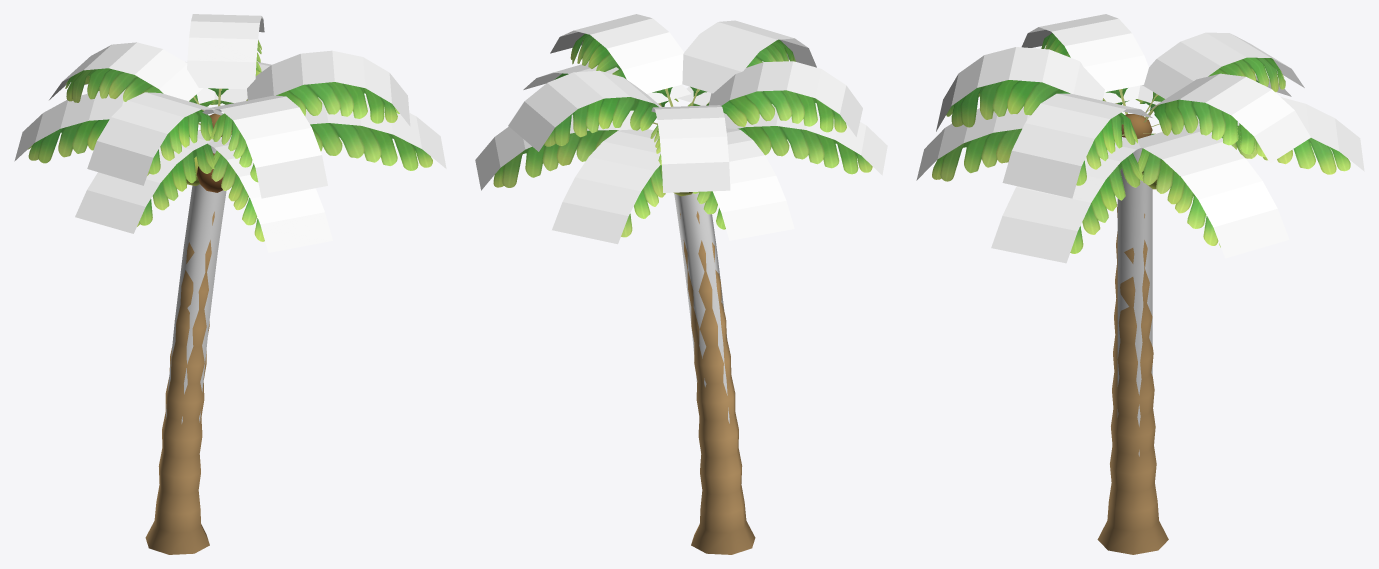
The model's file is tree-palm-tall.glb.
The picture shows the model from 3 angles, left to right: view 1: azimuth 30°, elevation 25°; view 2: azimuth 150°, elevation 25°; view 3: azimuth 270°, elevation 25°; orthographic projection. The views are drawn at different scales.
Parts seen in each view (by area): view 1: Hull, Fronds, Trunk, Stem; view 2: Hull, Fronds, Trunk, Stem; view 3: Hull, Fronds, Trunk, Stem.
Boxes of the visible parts, left/top/right/bottom form: Hull: left=14, top=14, right=446, bottom=252; Fronds: left=28, top=40, right=432, bottom=241; Trunk: left=145, top=113, right=232, bottom=554; Stem: left=165, top=146, right=226, bottom=423; Hull: left=475, top=14, right=887, bottom=244; Fronds: left=493, top=33, right=872, bottom=237; Trunk: left=673, top=192, right=755, bottom=554; Stem: left=674, top=192, right=729, bottom=423; Hull: left=916, top=14, right=1364, bottom=263; Fronds: left=932, top=33, right=1350, bottom=253; Trunk: left=1097, top=114, right=1168, bottom=554; Stem: left=1117, top=148, right=1152, bottom=456.
Bounding box in the file's own units: 4.61 × 5.66 × 4.62.
Materials: 4 (1 with a texture image).
